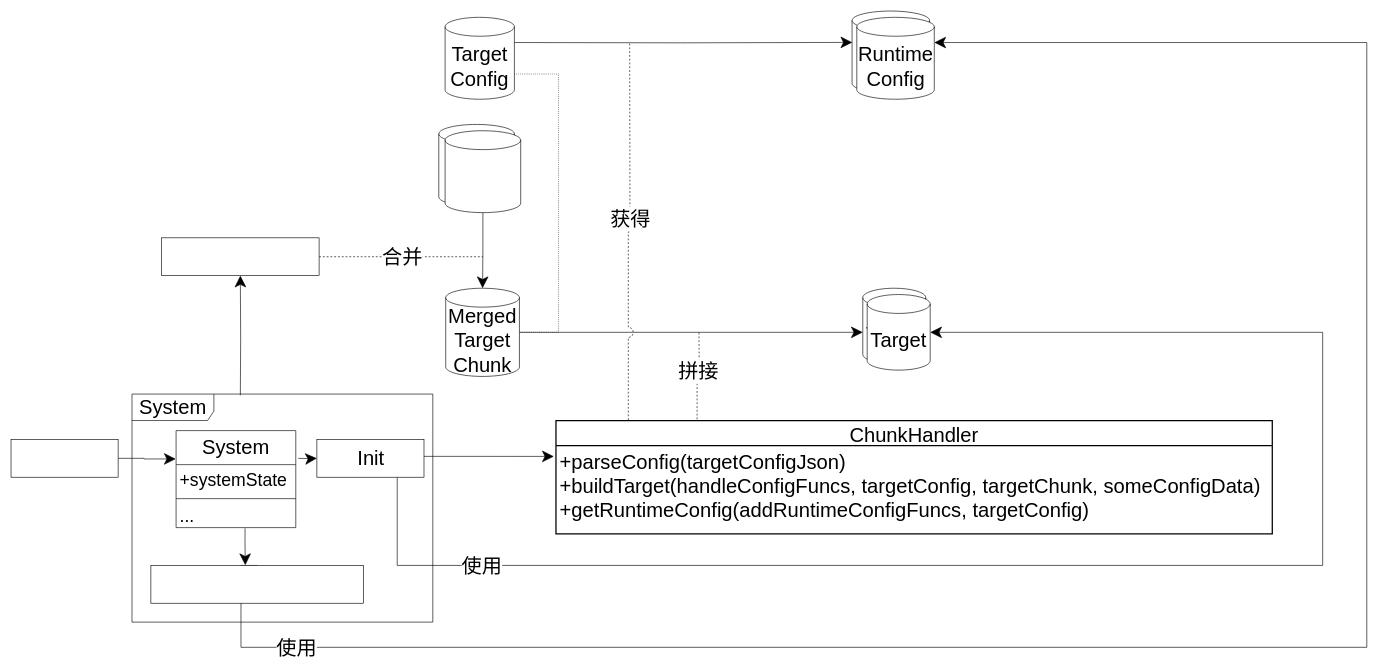
The diagram is 1389 pixels wide and 670 high, and some of its shapes have lost their labels. The box of each missing label's shape, as (x1, y1, x2, y2) in pixels:
ChunkConverter: (161, 237, 319, 276)
Client: (10, 439, 118, 477)
OperateWhenRuntime: (150, 565, 364, 603)
Target Chunk: (444, 130, 521, 213)
